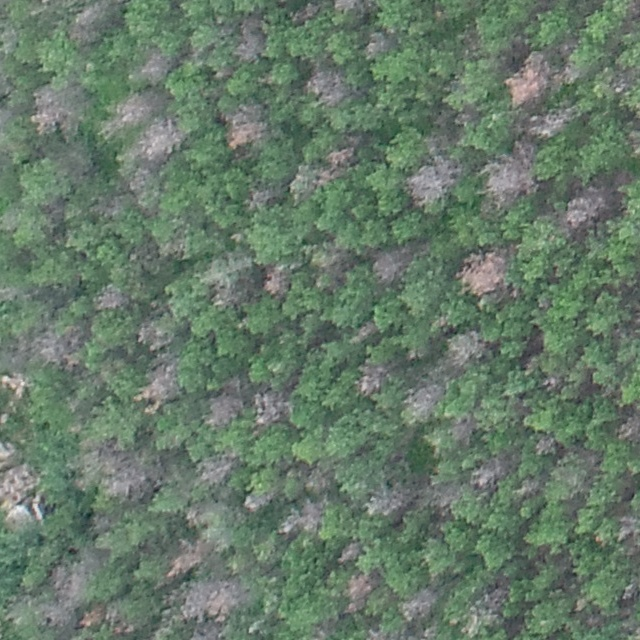unhealthy: (82, 442, 157, 501), (481, 144, 538, 210), (36, 555, 87, 621), (30, 80, 86, 135), (178, 576, 246, 619), (457, 246, 510, 297), (405, 156, 458, 207), (204, 254, 252, 310), (505, 52, 553, 107), (29, 323, 86, 368), (561, 183, 610, 233), (102, 88, 158, 129), (221, 101, 266, 150), (138, 357, 181, 406), (145, 121, 193, 164), (364, 481, 419, 517), (468, 583, 510, 629), (68, 1, 111, 44), (443, 330, 489, 369), (524, 106, 575, 140), (167, 537, 209, 578), (402, 380, 446, 419), (305, 67, 350, 105), (399, 585, 441, 623), (281, 500, 326, 535), (370, 246, 410, 285), (56, 141, 94, 182), (234, 15, 265, 65), (250, 390, 289, 428), (196, 452, 238, 487), (470, 454, 510, 490), (205, 391, 243, 427), (344, 571, 375, 612), (138, 48, 173, 83), (135, 317, 172, 350), (355, 361, 388, 397), (429, 480, 462, 515), (323, 138, 360, 169), (262, 262, 293, 297), (304, 461, 335, 495), (245, 182, 282, 210), (91, 284, 128, 311), (89, 193, 126, 219), (448, 413, 476, 446), (615, 512, 640, 548), (125, 164, 154, 195), (616, 404, 639, 443), (362, 30, 393, 58), (288, 0, 320, 23), (243, 490, 273, 514), (189, 620, 225, 640), (331, 0, 372, 17), (517, 474, 546, 497), (627, 115, 640, 165), (337, 539, 362, 564), (81, 608, 108, 631), (353, 318, 378, 342), (365, 624, 402, 640), (0, 205, 22, 231), (620, 573, 639, 603), (0, 282, 24, 305), (533, 433, 559, 454)
